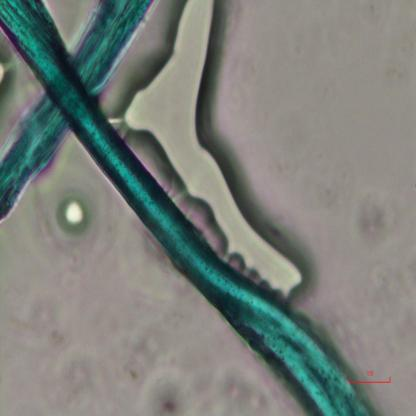Air bubble: (123, 0, 306, 300), (58, 195, 88, 233), (0, 52, 17, 107)
Background material: (342, 256, 416, 356), (30, 296, 96, 407), (351, 190, 396, 254), (118, 332, 173, 382), (215, 364, 266, 411), (147, 373, 191, 414)
Microfibre: (0, 0, 377, 414), (0, 0, 157, 225)
